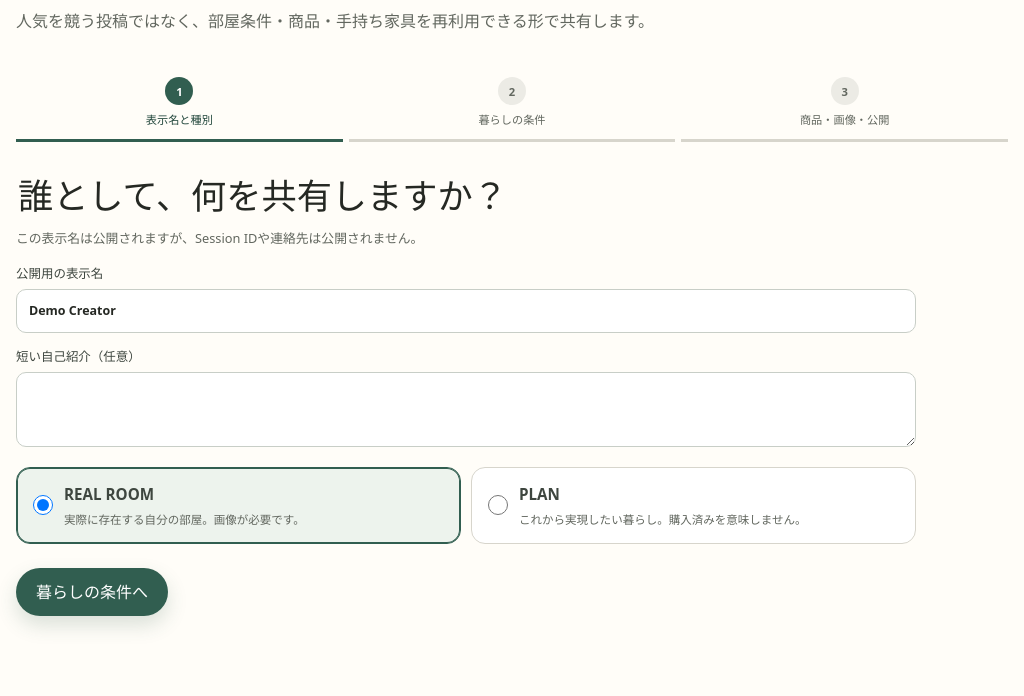
Test: Goal 2 creator and community surfaces › REAL image failure keeps the entered form state
(page scrolled)
Expected: the field showing "Demo Creator" is shown, [16,288,916,332]
Click the button "暮らしの条件へ".
click(92, 592)  # box [16,568,168,616]
(page scrolled)
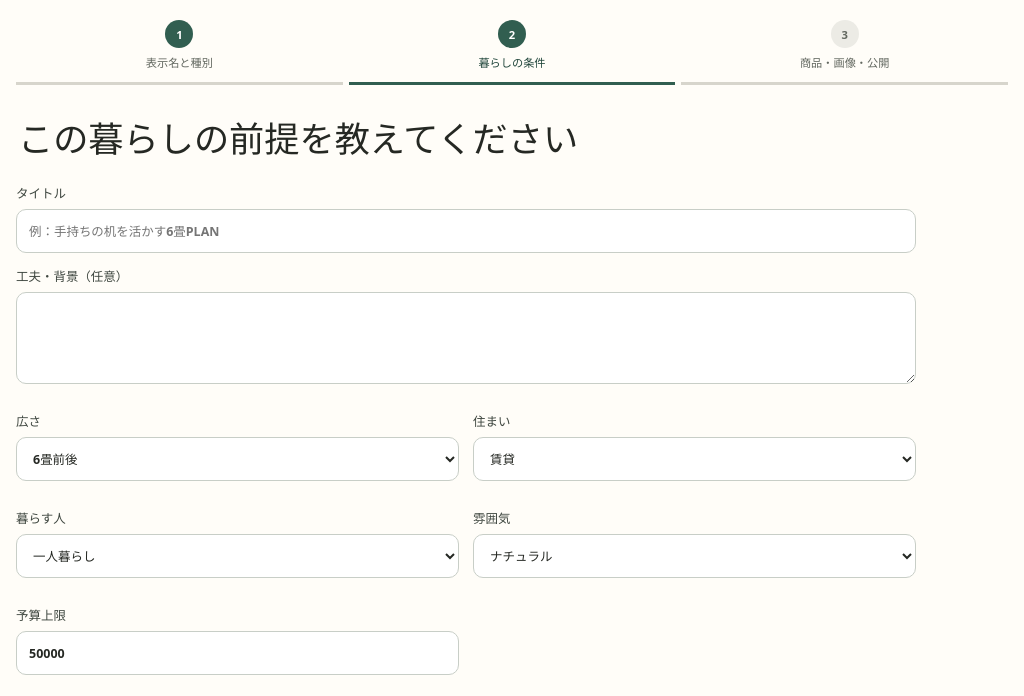
Type "画像待ちのREAL ROOM" into the field labelled "タイトル".
click(466, 231); type("画像待ちのREAL ROOM")  # box [16,209,916,253]
(page scrolled)
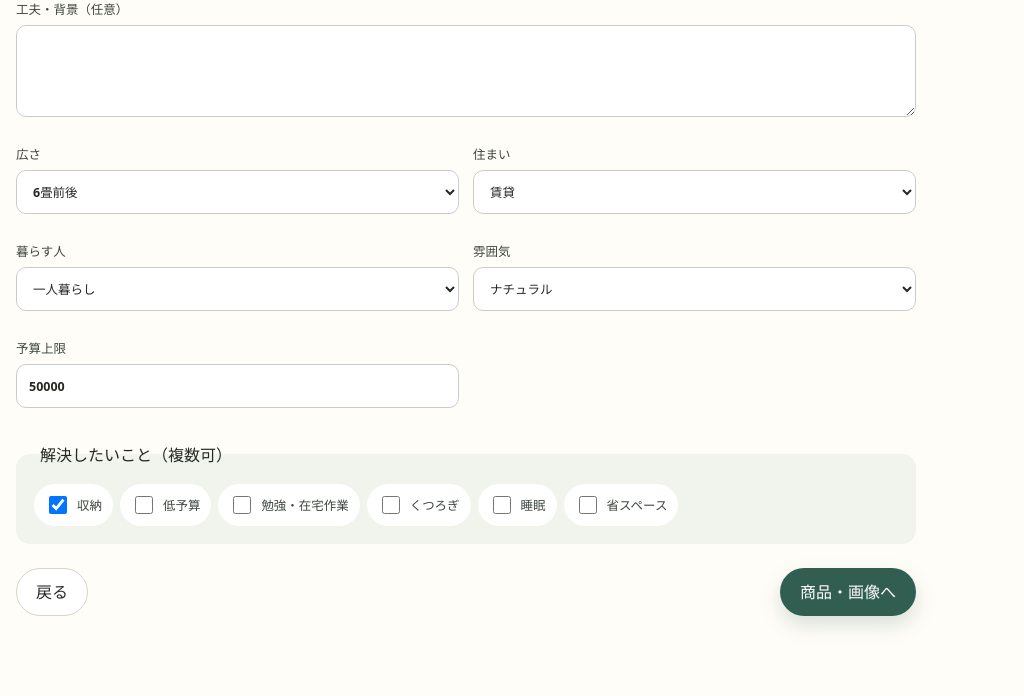
Click the button "商品・画像へ".
click(848, 592)  # box [780,568,916,616]
(page scrolled)
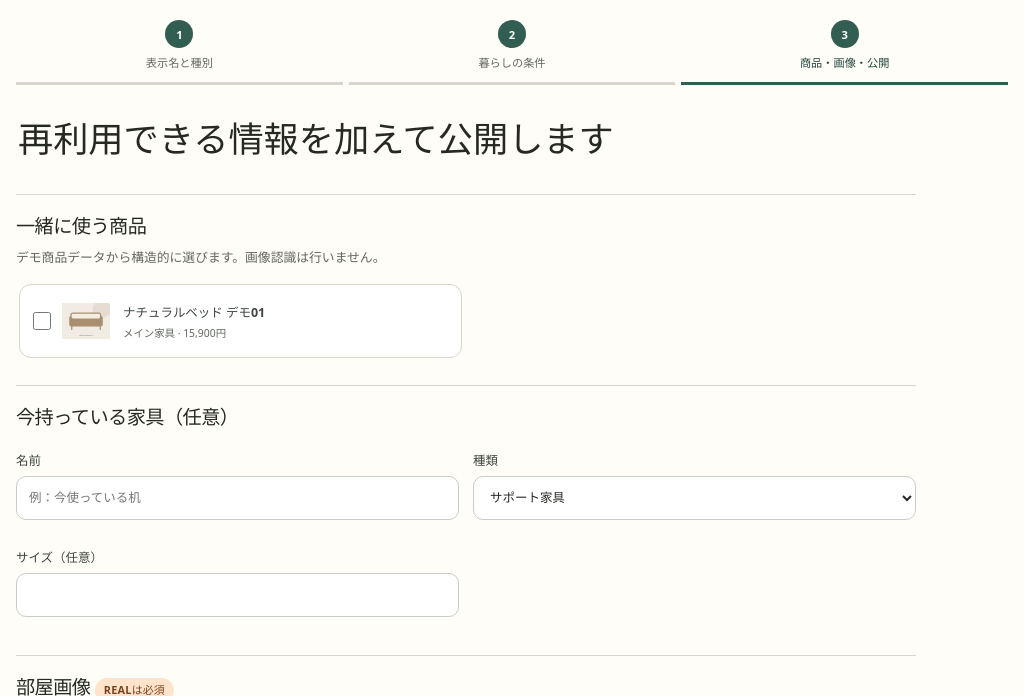
Click the checkbox labelled "ナチュラルベッド デモ01 メイン家具 · 15,900円".
click(42, 321)  # box [33,312,51,330]
(page scrolled)
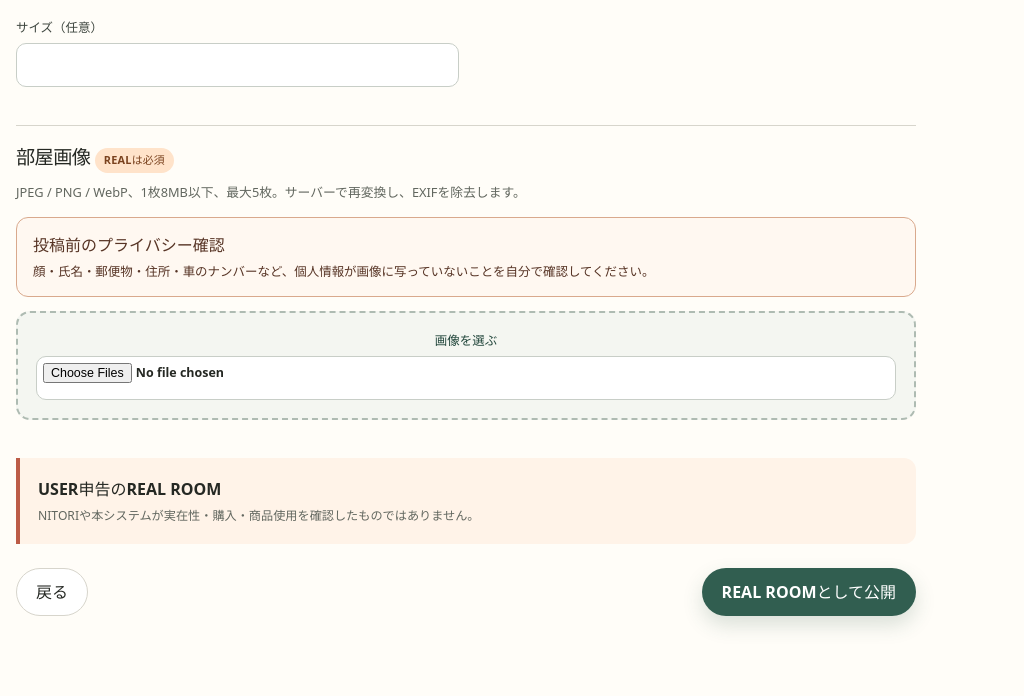
Click the button "REAL ROOMとして公開".
click(809, 592)  # box [702,568,916,616]
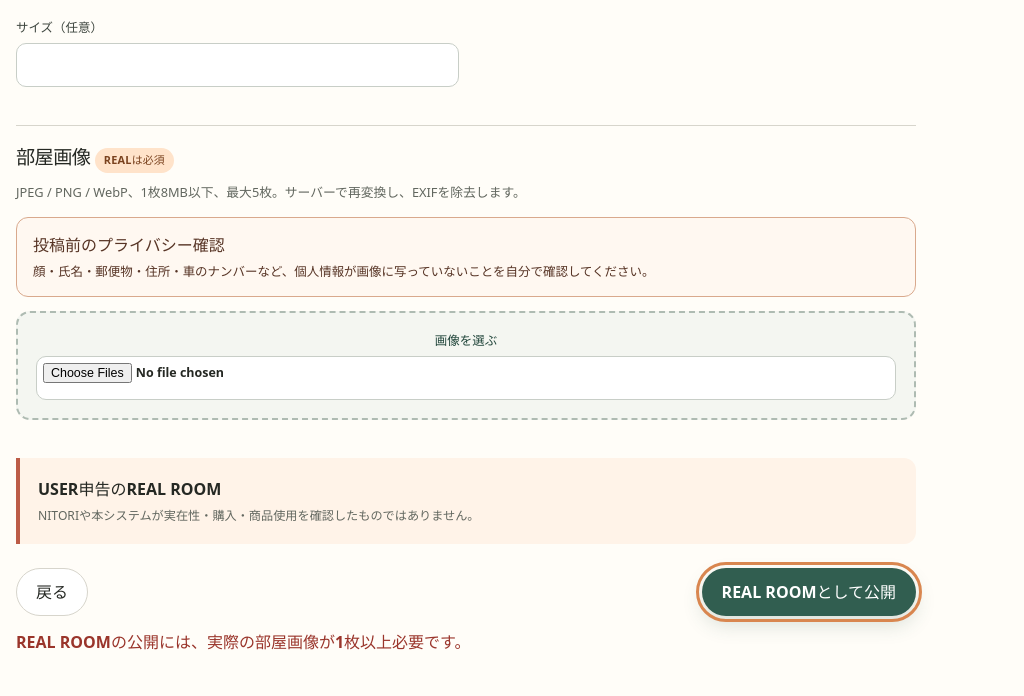
Now the message shows "部屋画像が1枚以上必要", box [16,632,470,654]
Click the button "戻る".
click(52, 592)  # box [16,568,88,616]
(page scrolled)
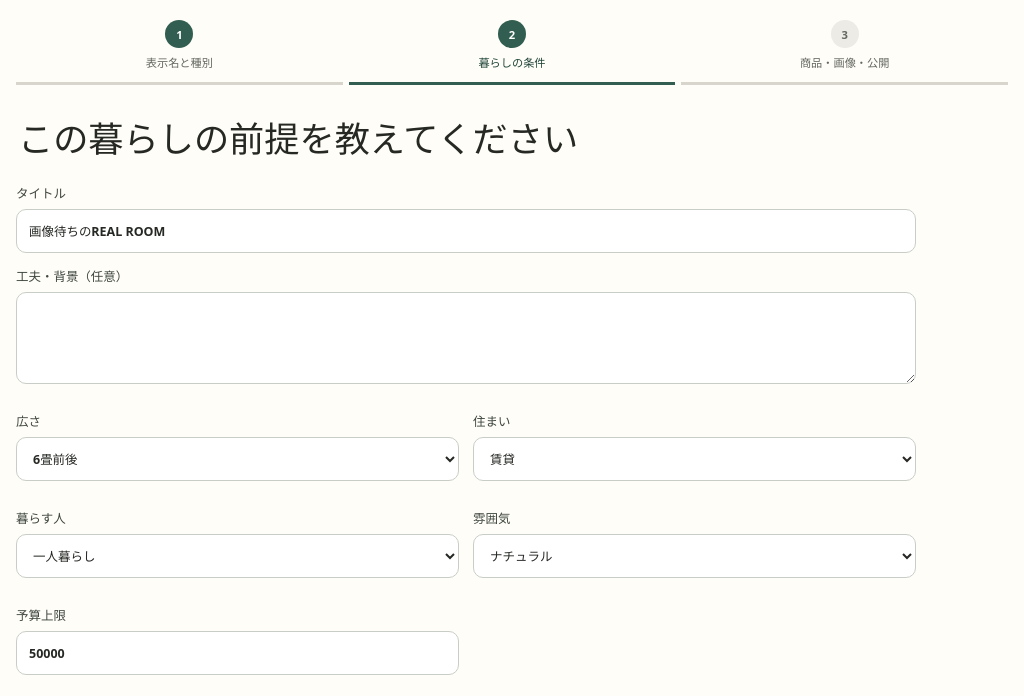
Now the field showing "画像待ちのREAL ROOM" is shown, box [16,209,916,253]
